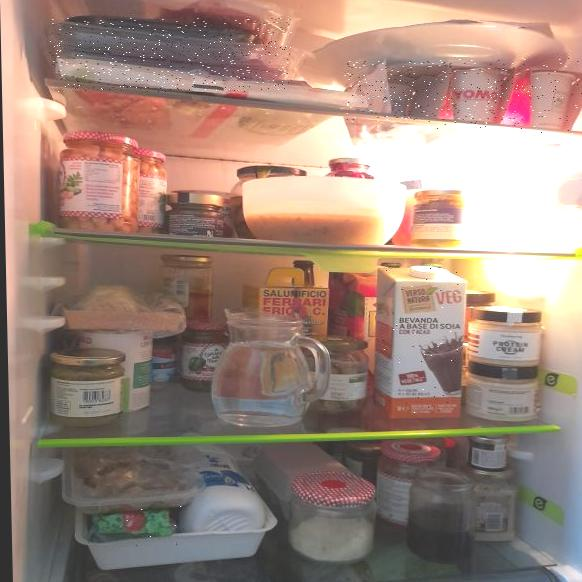cheese: (83, 506, 185, 547)
ham: (48, 18, 292, 66), (57, 47, 290, 92)
milk: (381, 268, 463, 419), (167, 438, 270, 536)
yoghurt: (344, 61, 451, 122), (434, 59, 518, 132), (514, 57, 582, 135)
